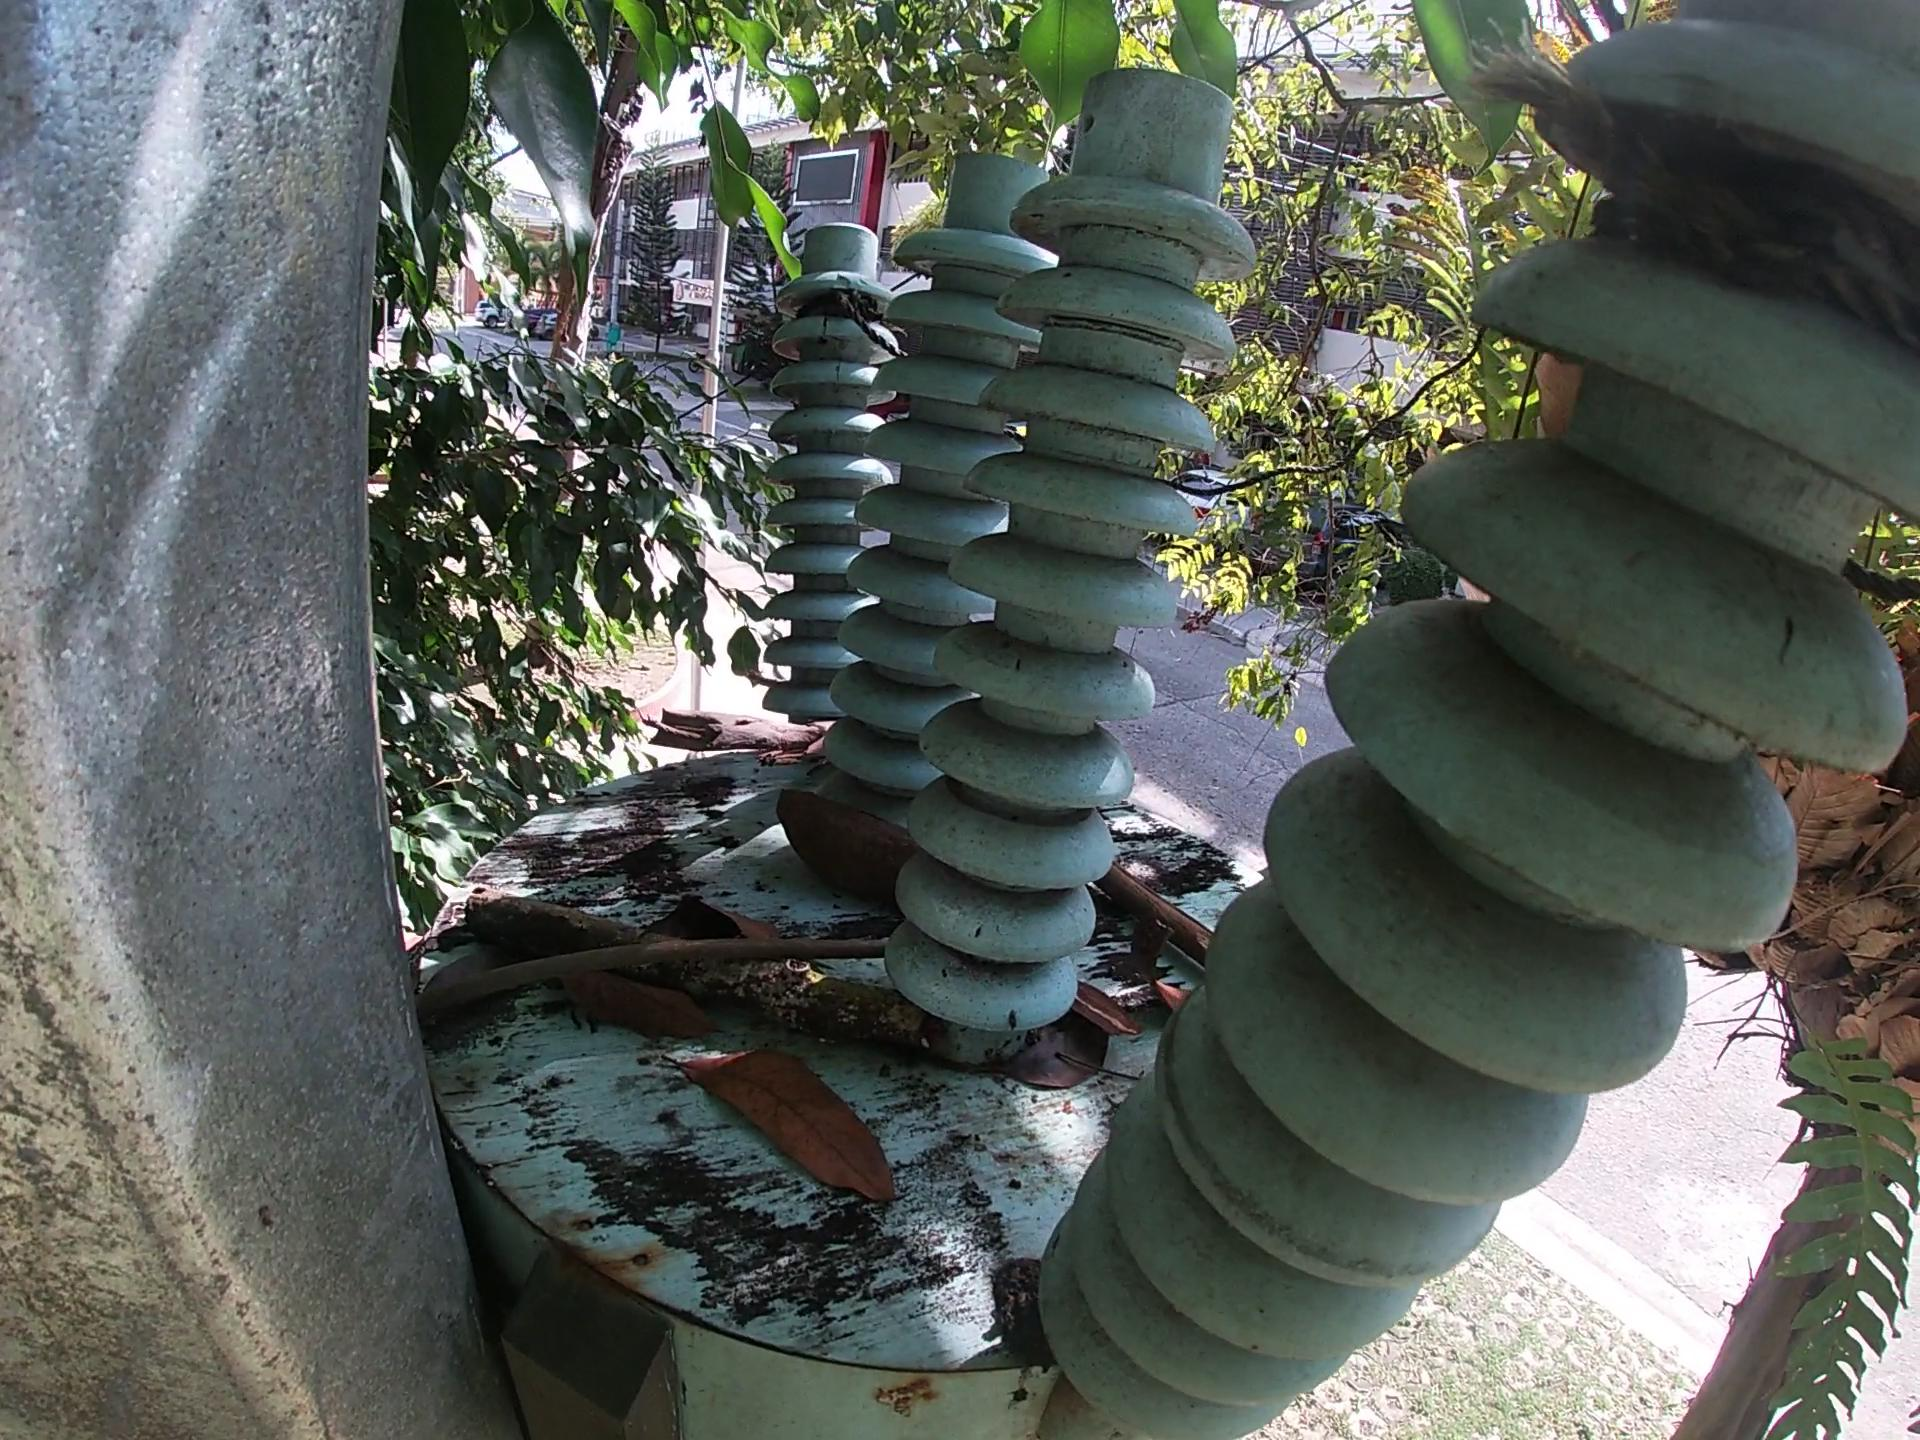leaf: (659, 1044, 904, 1212), (558, 967, 729, 1047), (974, 1016, 1113, 1097), (632, 897, 788, 941)
mahogany fruit: (771, 787, 915, 909), (1067, 976, 1144, 1044), (1143, 920, 1188, 1018)
tree branch: (461, 888, 927, 1057), (408, 933, 893, 1026), (1093, 861, 1215, 967), (633, 703, 831, 765)
